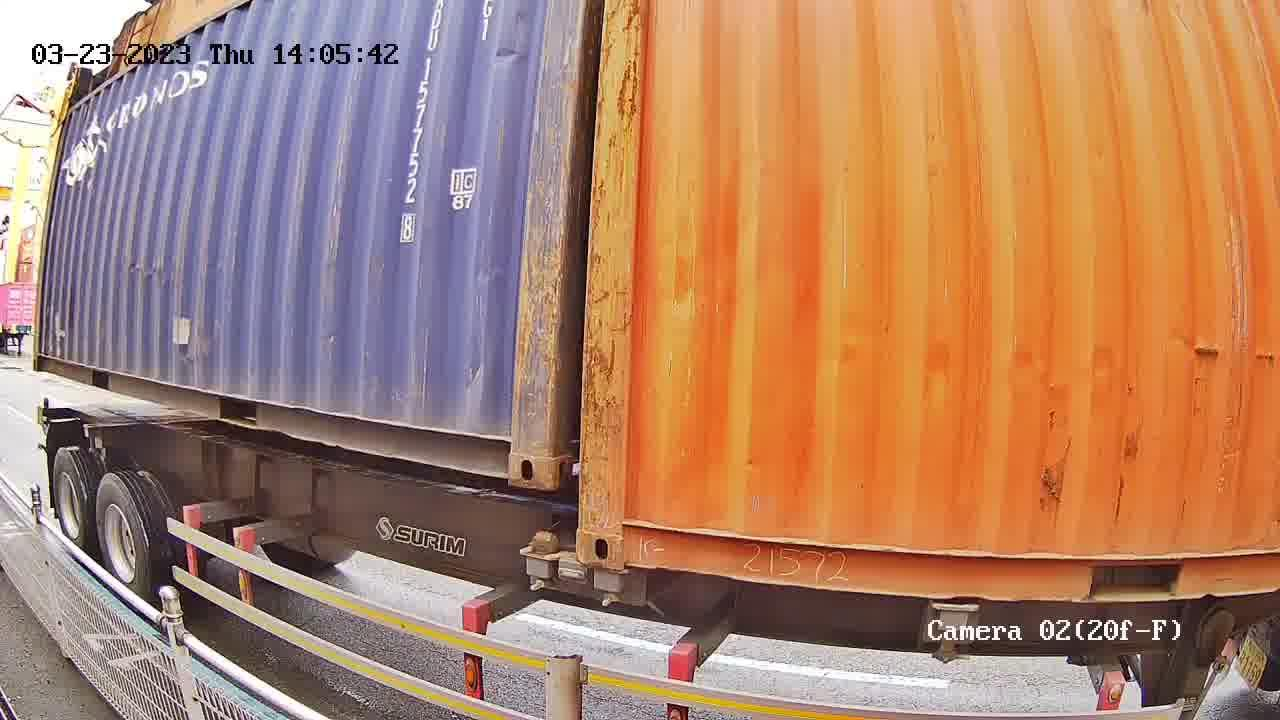Cone: (523, 530, 560, 595), (589, 567, 629, 609)
Hole_L: (578, 487, 662, 571)
Hole_R: (472, 406, 552, 491)
Tire: (95, 474, 153, 603), (53, 449, 89, 553)
